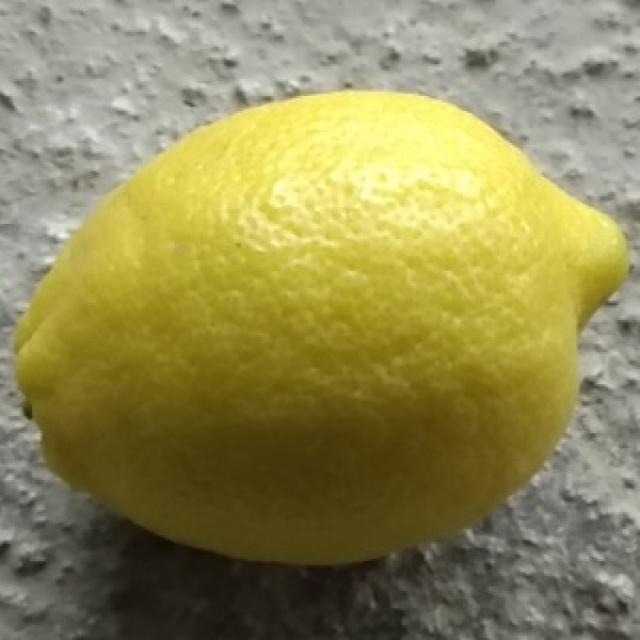Ripe: (10, 85, 640, 574)
